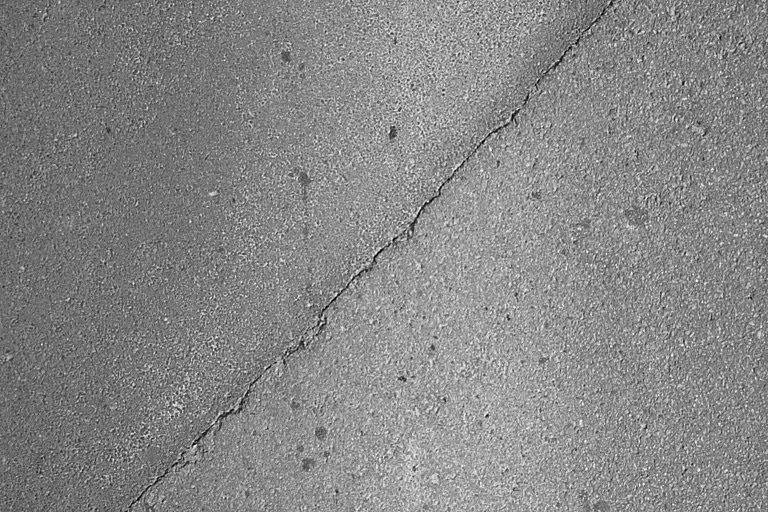crack: (119, 4, 616, 512)
